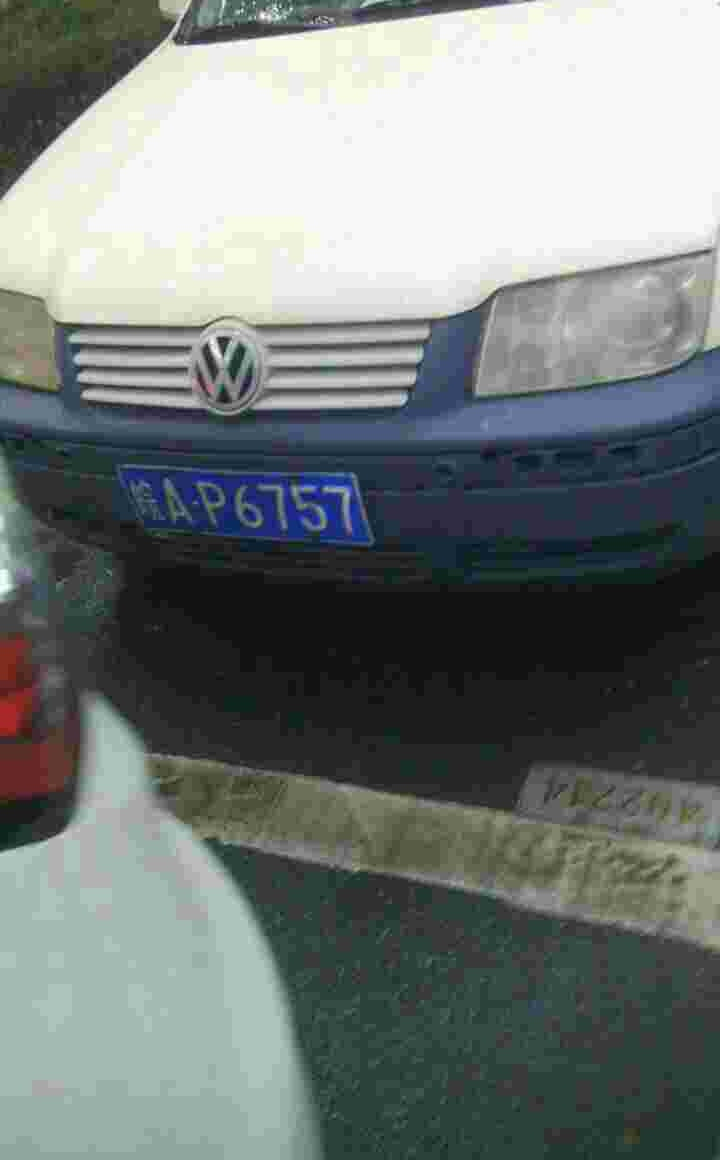plate: (110, 459, 381, 552)
